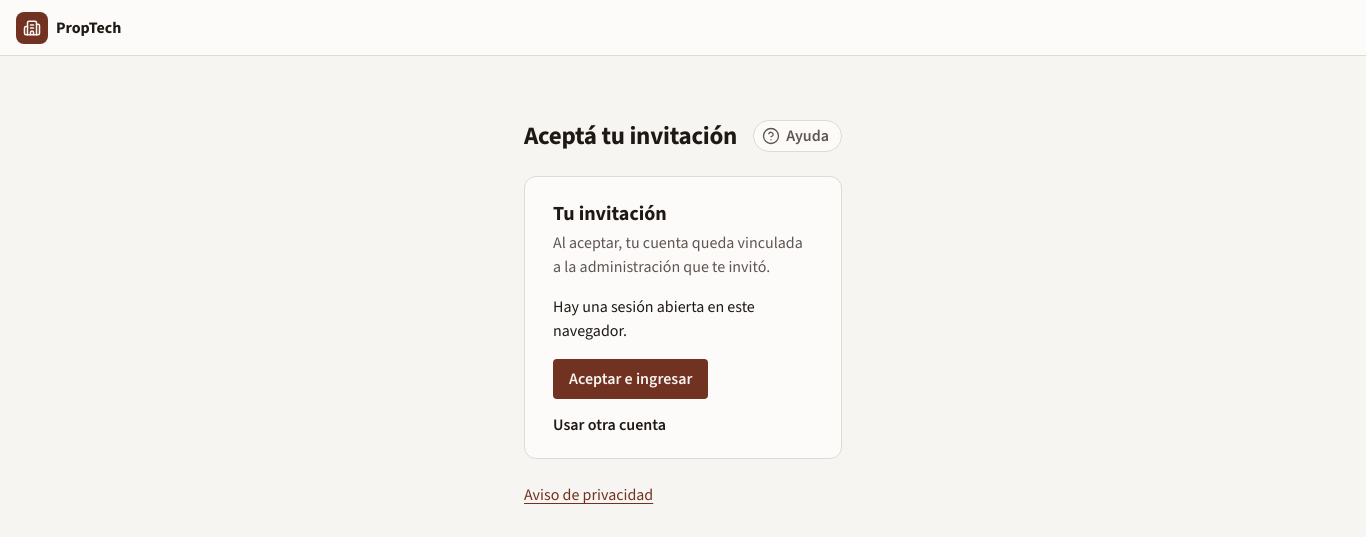
Test: E10: abrir o rechazar una invitación no carga proveedor de terceros antes de pedir salir
Click the button "Aceptar e ingresar" at (631, 379), box [553, 359, 708, 399]
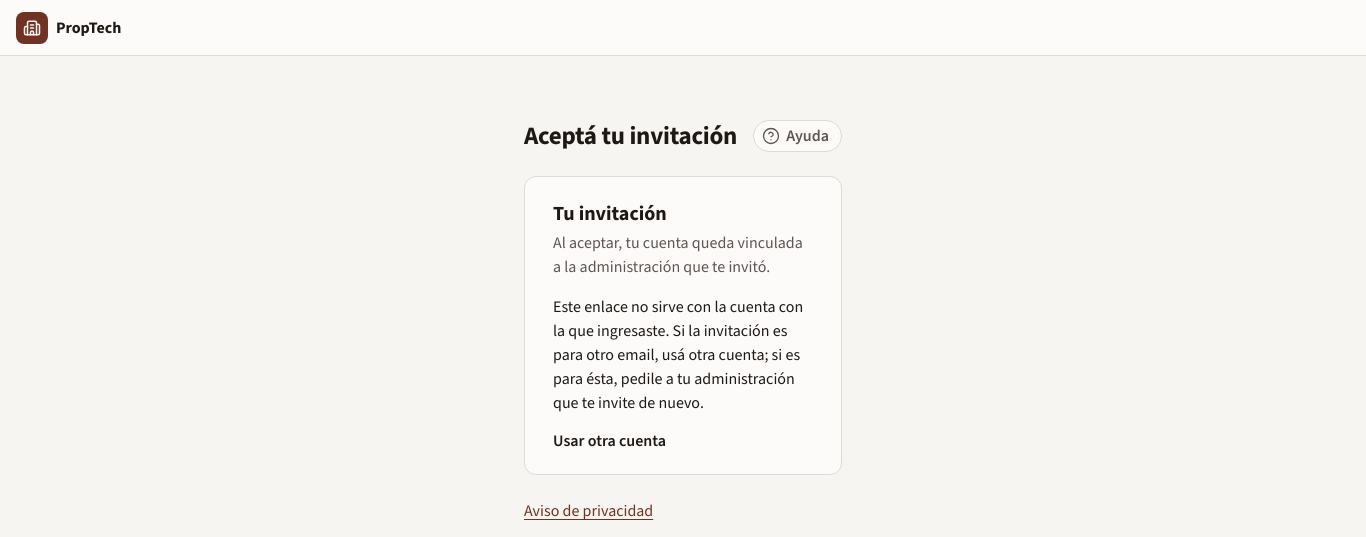
Check: the message is shown, box [553, 295, 813, 415]
